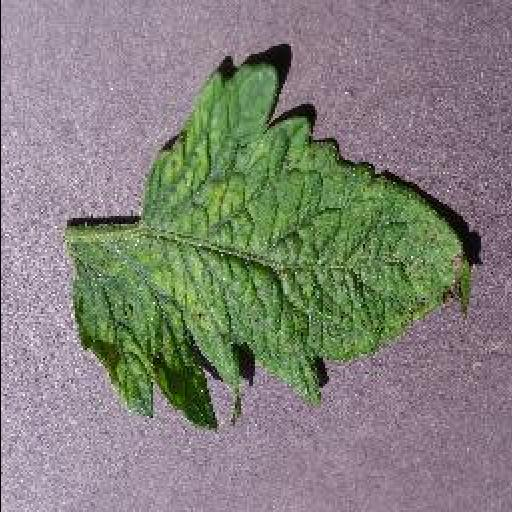disease_tomato: (70, 62, 478, 432)
